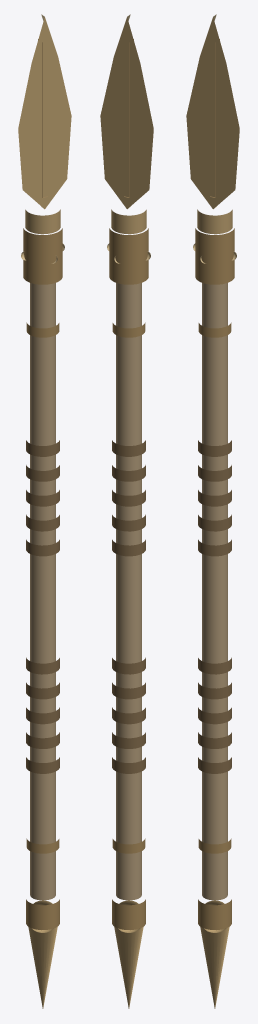
The model's file is bronze_spear.glb.
The picture shows the model from 3 angles, left to right: view 1: azimuth 30°, elevation 25°; view 2: azimuth 150°, elevation 25°; view 3: azimuth 330°, elevation 25°; orthographic projection.
Parts seen in each view (by area): view 1: BronzeSpear; view 2: BronzeSpear; view 3: BronzeSpear.
Part boxes in pixels (x1=…): BronzeSpear: x1=18, y1=14, x2=71, y2=1008; BronzeSpear: x1=100, y1=14, x2=153, y2=1008; BronzeSpear: x1=186, y1=14, x2=239, y2=1008.
Size of the model in its own units: 0.18 by 3.2 by 0.144.
